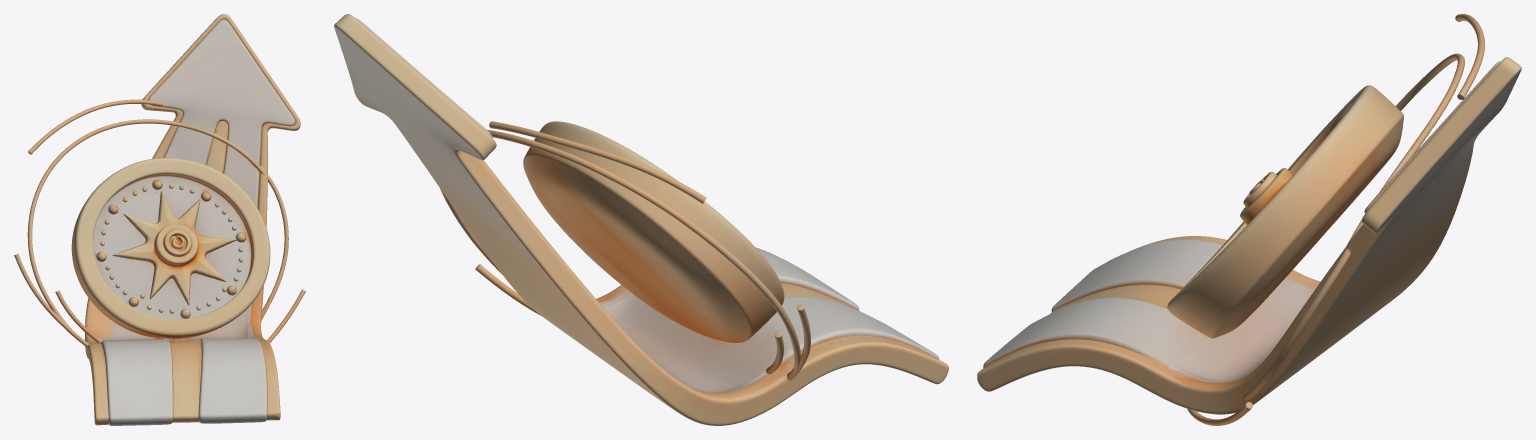
The model's file is texturized-new.glb.
3 views of the same model, side by side, from view 1: azimuth 30°, elevation 25°; view 2: azimuth 150°, elevation 25°; view 3: azimuth 270°, elevation 25° (orthographic). The views are drawn at different scales.
Visible parts, largest first — view 1: material; view 2: material; view 3: material.
Part boxes in pixels (x1,y1,x2,y2): material: (14,14,305,425); material: (334,14,948,425); material: (977,14,1521,425).
Size of the model in its own units: 0.7787 by 0.6931 by 0.7948.
1 material, 1 textured.
